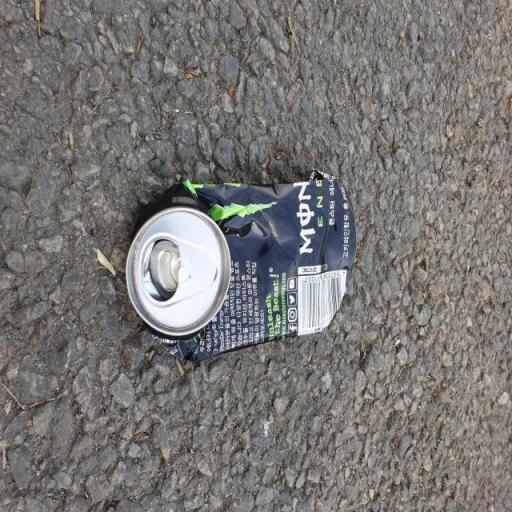metal: (112, 138, 394, 414)
